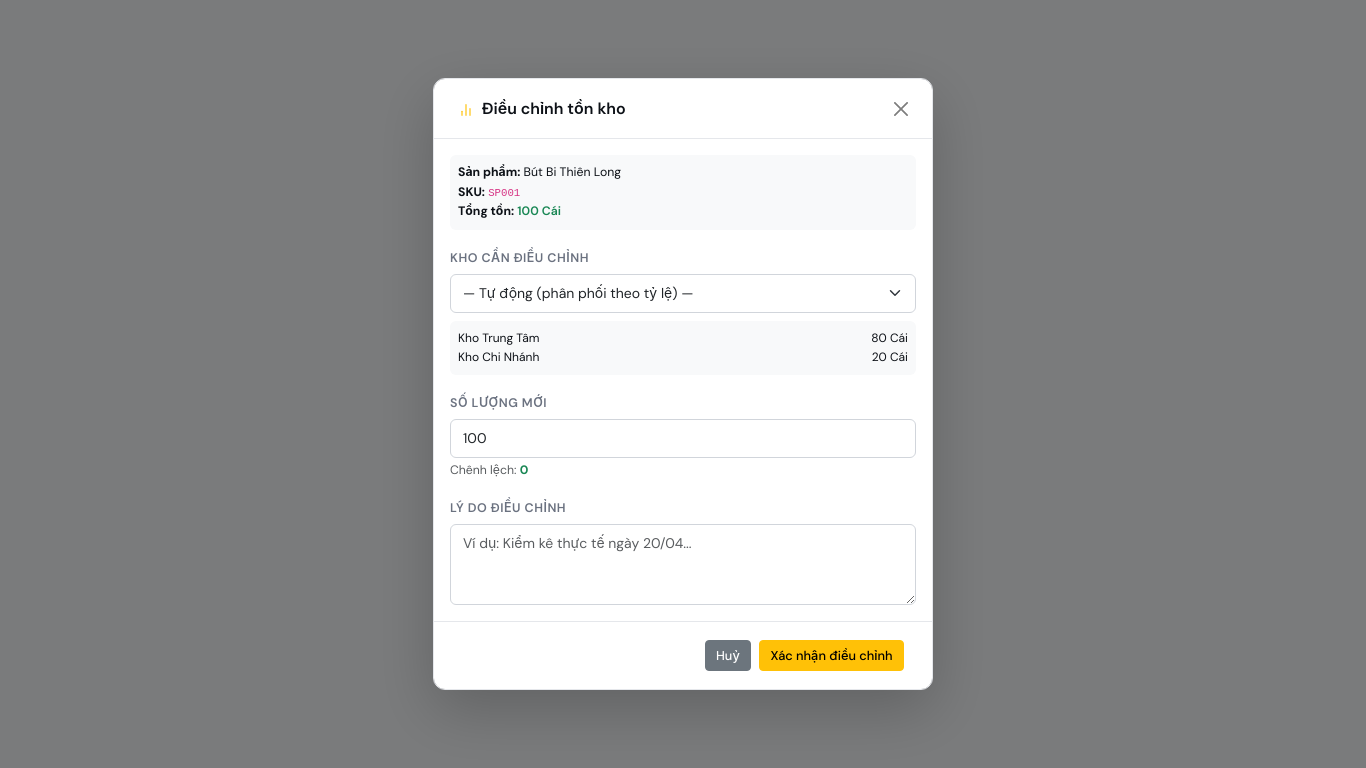
Test: AdjustmentModal Component › shows validation error if quantity does not change
# Initial qty is 100 (total), enter 100
Clear the number field labelled "Số lượng mới" at [683, 438], box [450,419,916,458]
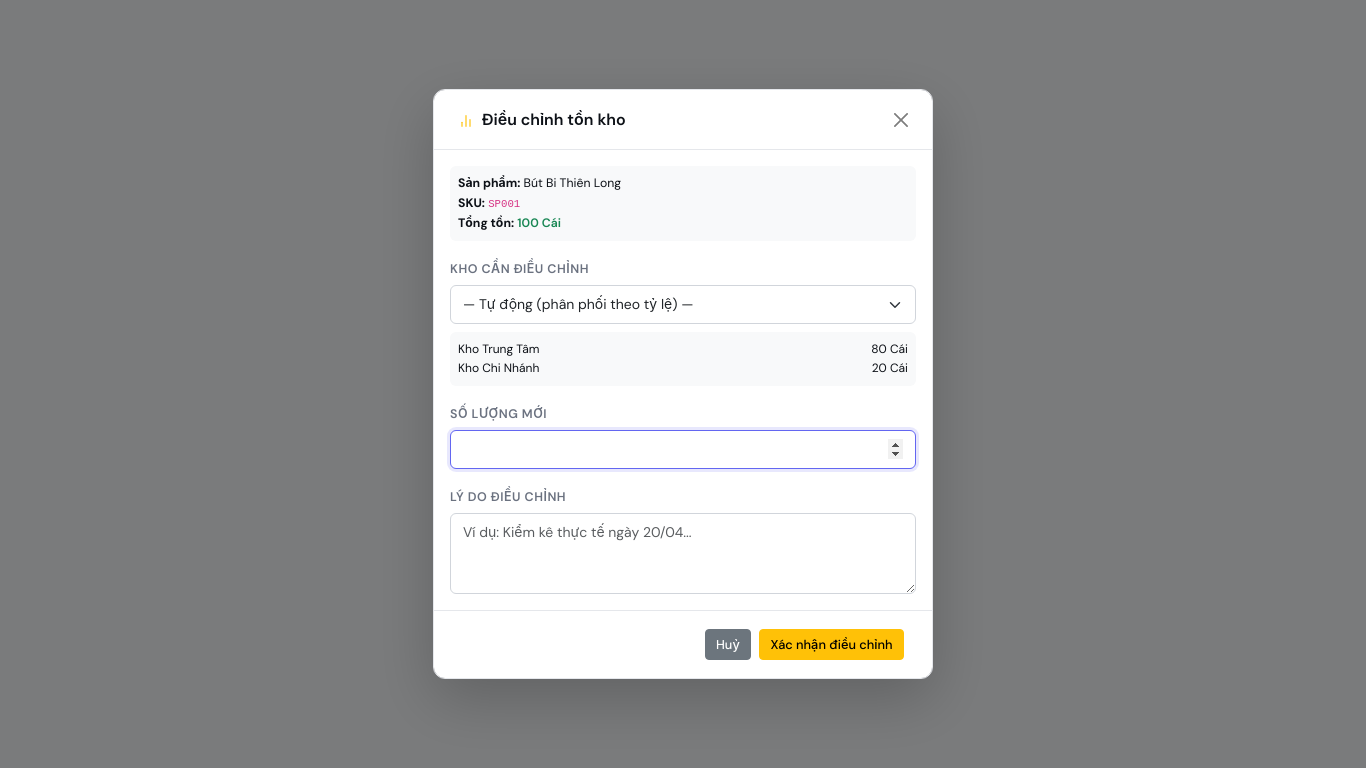
Type "100" into the number field labelled "Số lượng mới" at [683, 450], box [450,430,916,469]
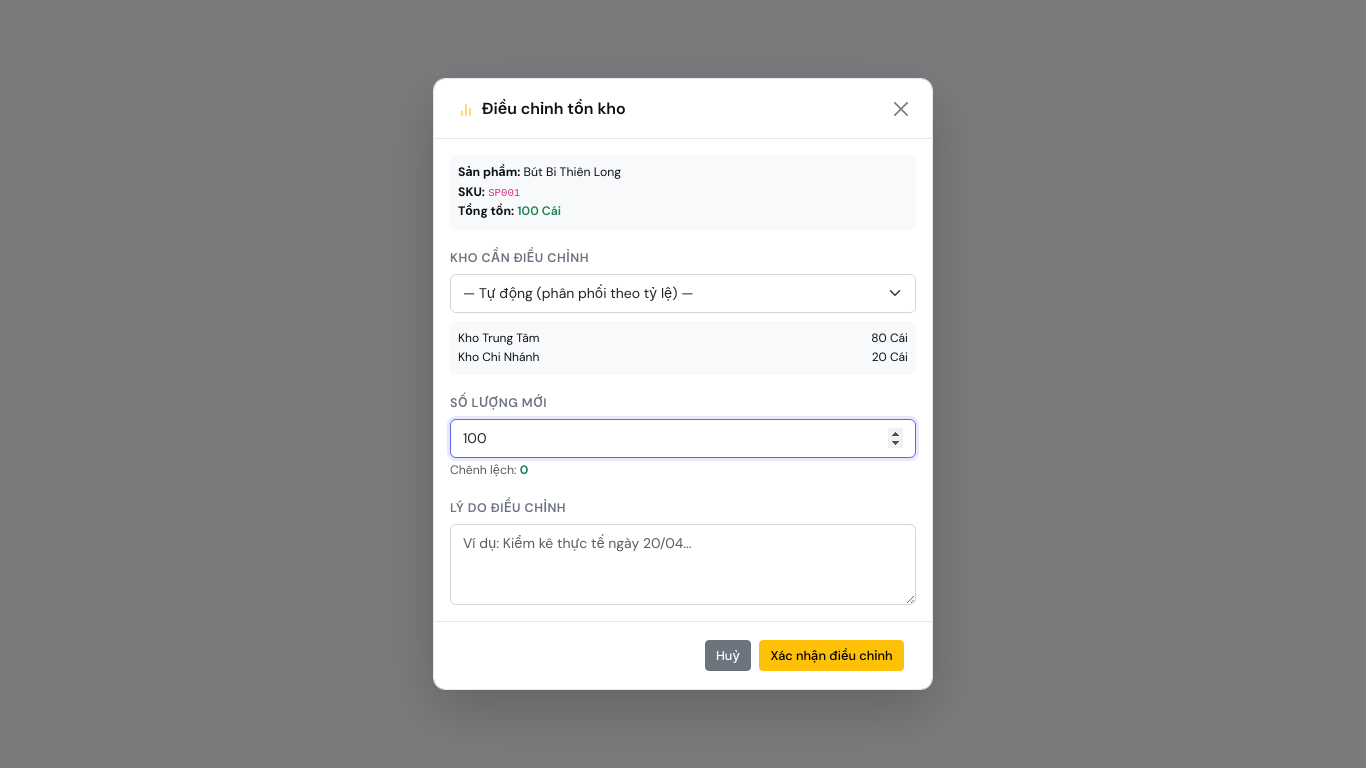
# Enter valid reason
Type "Kiểm kê kho hàng tuần" into the text box labelled "Lý do điều chỉnh" at [683, 565], box [450,524,916,605]
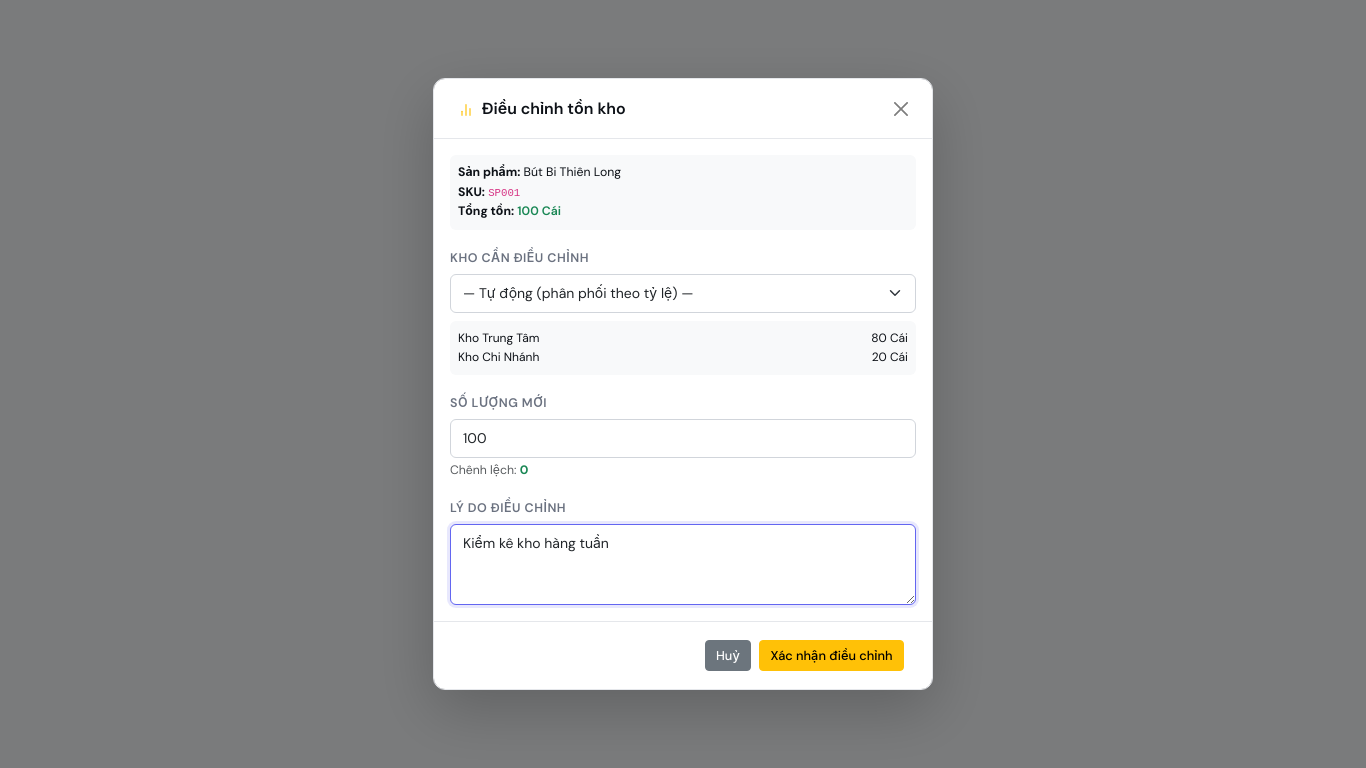
Click the button "Xác nhận điều chỉnh" at [832, 656], box [759,640,904,671]
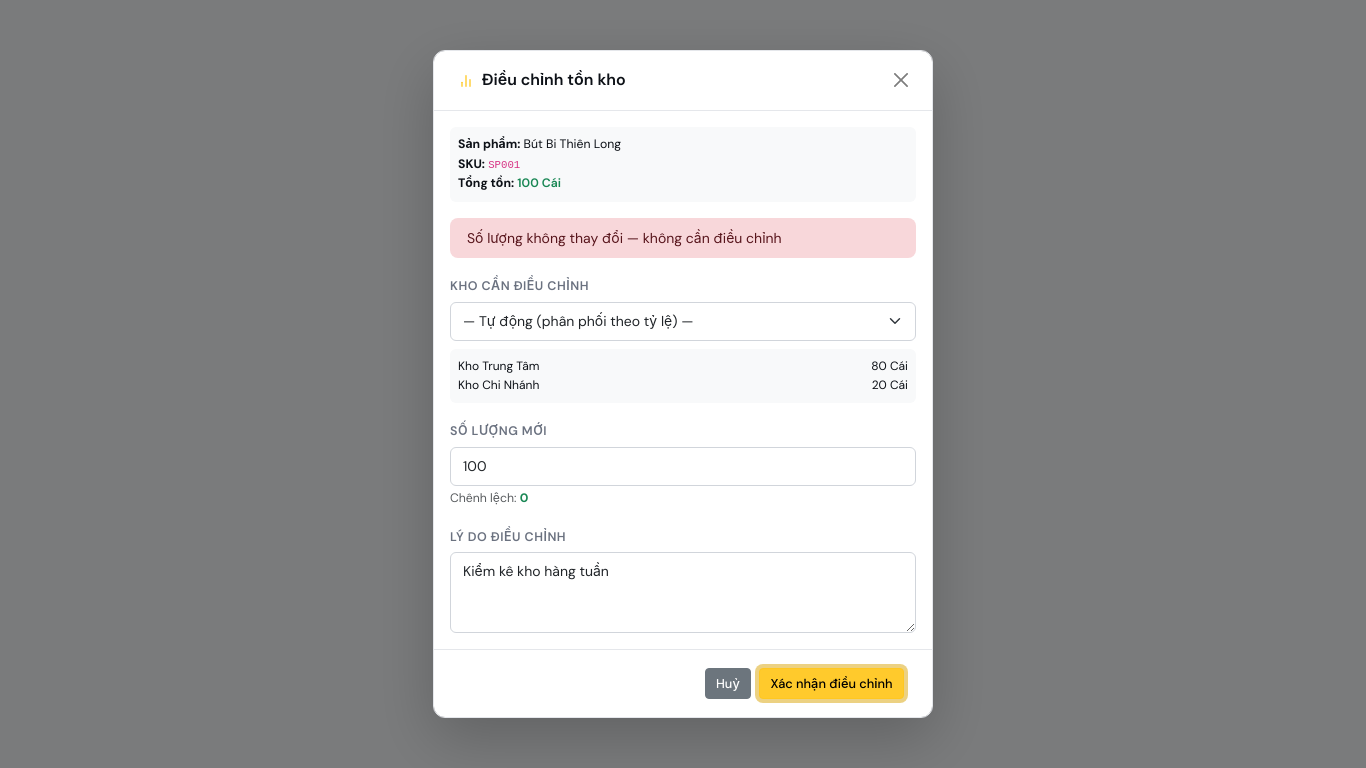
Expected: the text "Số lượng không thay đổi — không cần điều chỉnh" is shown, [450,218,916,258]
